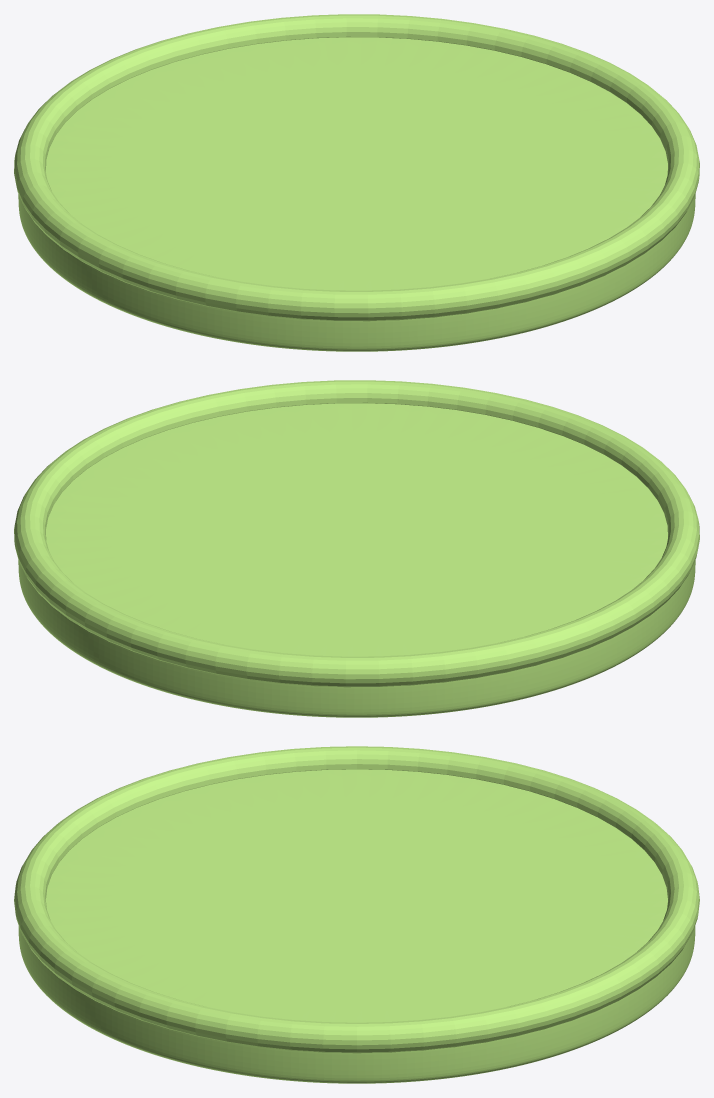
File: Toy_SpawnPad_Lime_Hi.fbx
The picture shows the model from 3 angles, top to bottom: view 1: azimuth 30°, elevation 25°; view 2: azimuth 150°, elevation 25°; view 3: azimuth 270°, elevation 25°; orthographic projection.
Parts seen in each view (by area): view 1: Cylinder, Torus; view 2: Cylinder, Torus; view 3: Cylinder, Torus.
Boxes of the visible parts, x1,y1,x2,y2 form: Cylinder: (18, 37, 695, 351); Torus: (14, 14, 699, 321); Cylinder: (18, 403, 695, 717); Torus: (14, 380, 699, 687); Cylinder: (18, 769, 695, 1083); Torus: (14, 746, 699, 1053).
Size of the model in its own units: 1.72 by 0.16 by 1.72.
